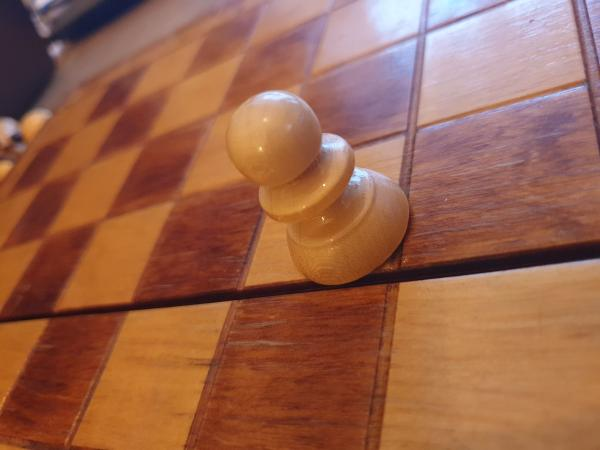wpawn: (224, 90, 412, 288)
